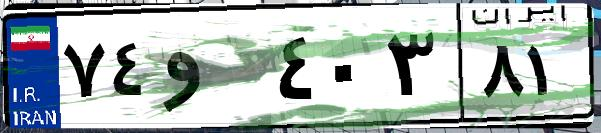0: (330, 28, 385, 110)
1: (525, 38, 570, 115)
3: (385, 28, 445, 110)
4: (270, 28, 330, 110), (110, 28, 158, 98)
7: (57, 26, 110, 100)
8: (475, 38, 525, 113)
و: (158, 20, 270, 120)
